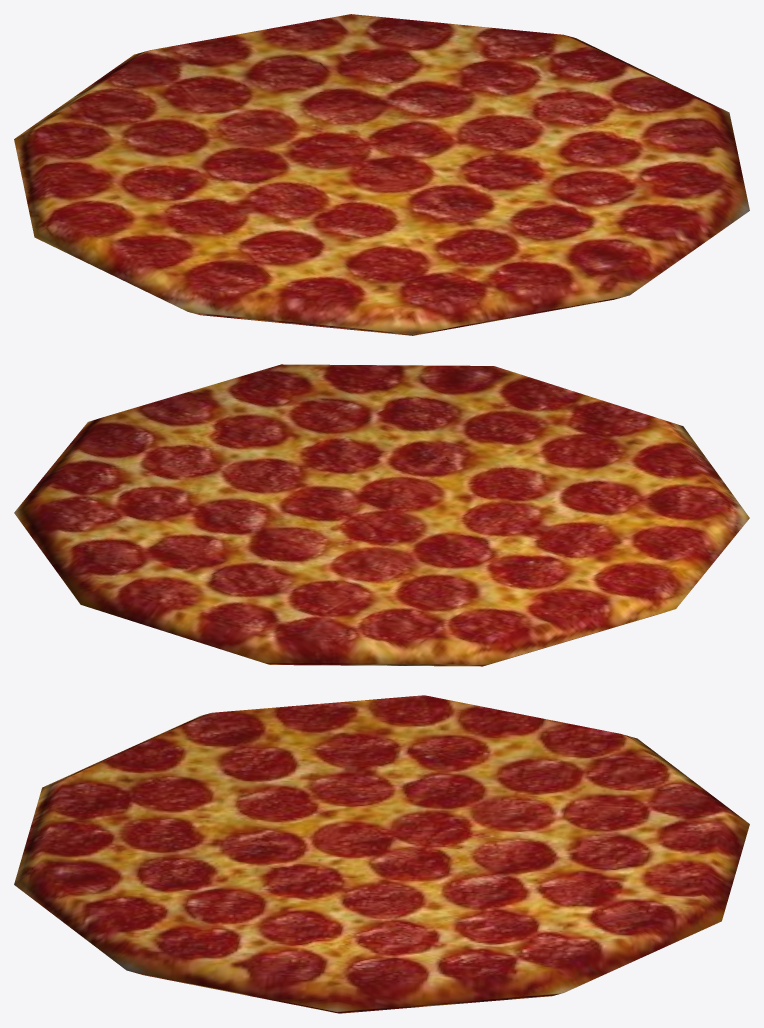
3 renders of one model, top to bottom at view 1: azimuth 30°, elevation 25°; view 2: azimuth 150°, elevation 25°; view 3: azimuth 270°, elevation 25°, orthographic. The views are drawn at different scales.
Visible parts, largest first — view 1: Pizza_02001_Foods_04_0; view 2: Pizza_02001_Foods_04_0; view 3: Pizza_02001_Foods_04_0.
Part boxes in pixels (x1,y1,x2,y2): Pizza_02001_Foods_04_0: [14, 14, 749, 335]; Pizza_02001_Foods_04_0: [14, 364, 749, 666]; Pizza_02001_Foods_04_0: [14, 695, 749, 1013].
Bounding box in the file's own units: 0.6968 × 0.025 × 0.689.
Materials: 1 (1 with a texture image).
